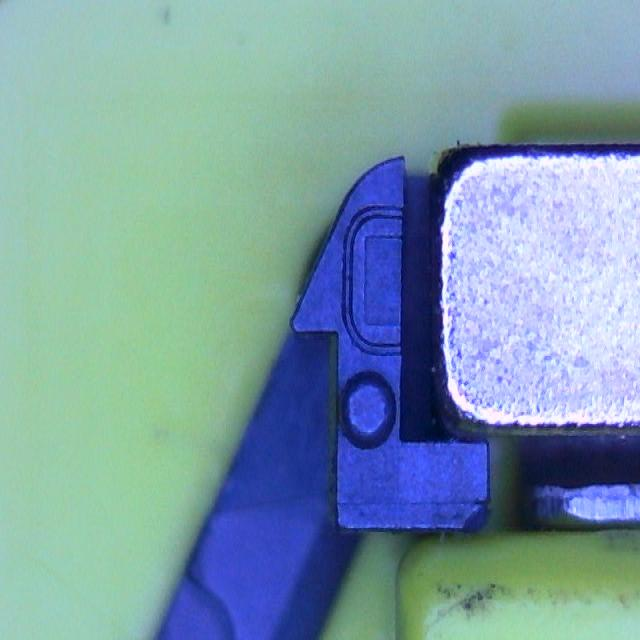noResin: (341, 203, 407, 357)
